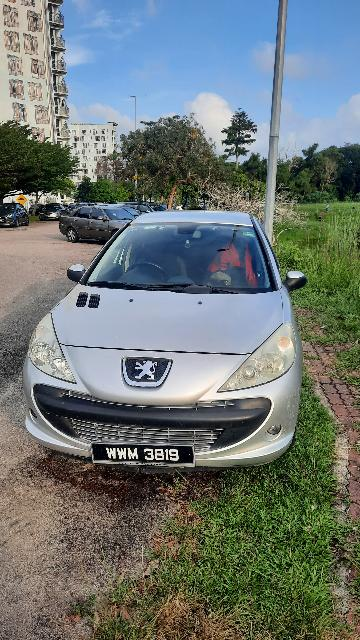License_Plate: (90, 442, 197, 471)
car: (20, 204, 307, 481)
